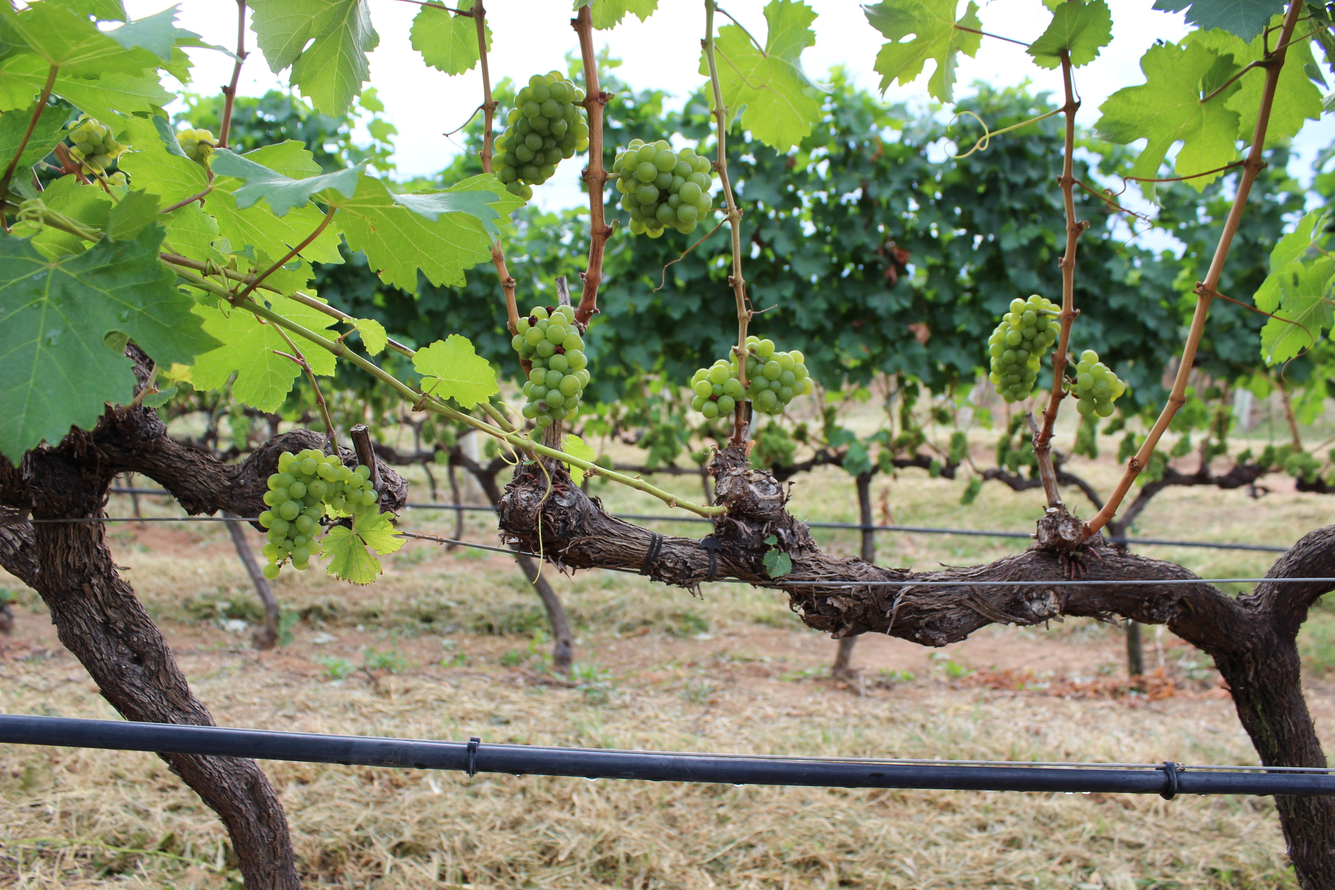leaf: (0, 226, 217, 463), (337, 174, 522, 293), (1096, 42, 1238, 190), (715, 0, 820, 151), (250, 0, 379, 115), (191, 303, 302, 411), (865, 0, 982, 102), (211, 149, 365, 216), (1261, 257, 1335, 364), (1253, 211, 1325, 312), (413, 334, 499, 408), (1265, 41, 1323, 147), (1027, 0, 1112, 68), (1152, 0, 1284, 42), (410, 5, 480, 75), (40, 175, 112, 229), (1188, 30, 1274, 69), (16, 106, 68, 170), (1225, 67, 1266, 144), (11, 220, 89, 258), (105, 189, 162, 241), (264, 294, 335, 333), (0, 102, 36, 170), (289, 334, 335, 375), (354, 319, 388, 355), (561, 434, 596, 462), (567, 463, 585, 485), (456, 0, 473, 11), (700, 54, 708, 74), (485, 26, 491, 51), (322, 194, 337, 203), (1211, 98, 1219, 102), (330, 335, 333, 339), (1276, 20, 1278, 23), (595, 7, 596, 9)
